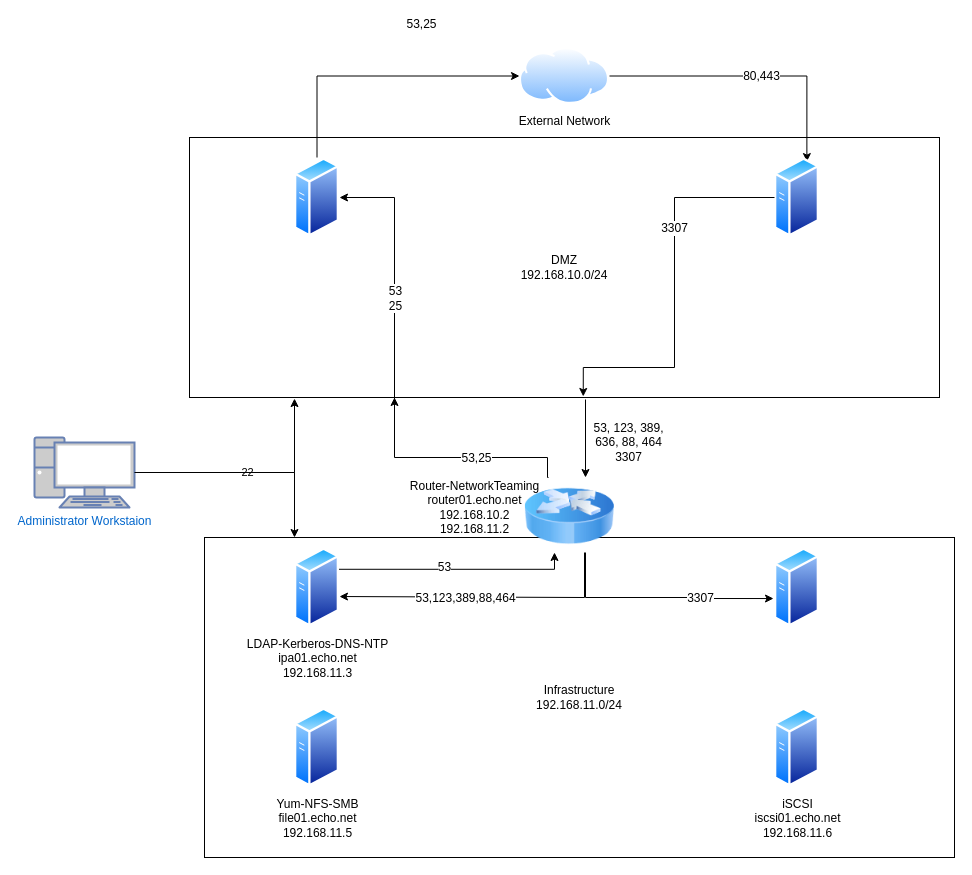
This 972x875 diagram has some shape labels left out. Each missing label, with the centre of its shape:
Database db01.echo.net 192.168.11.4: [796,587]
HTTP-HTTPS web01.echo.net 192.168.10.4: [796,197]
SMTP-DNS smtp01.echo.net 192.168.10.3: [316,197]
